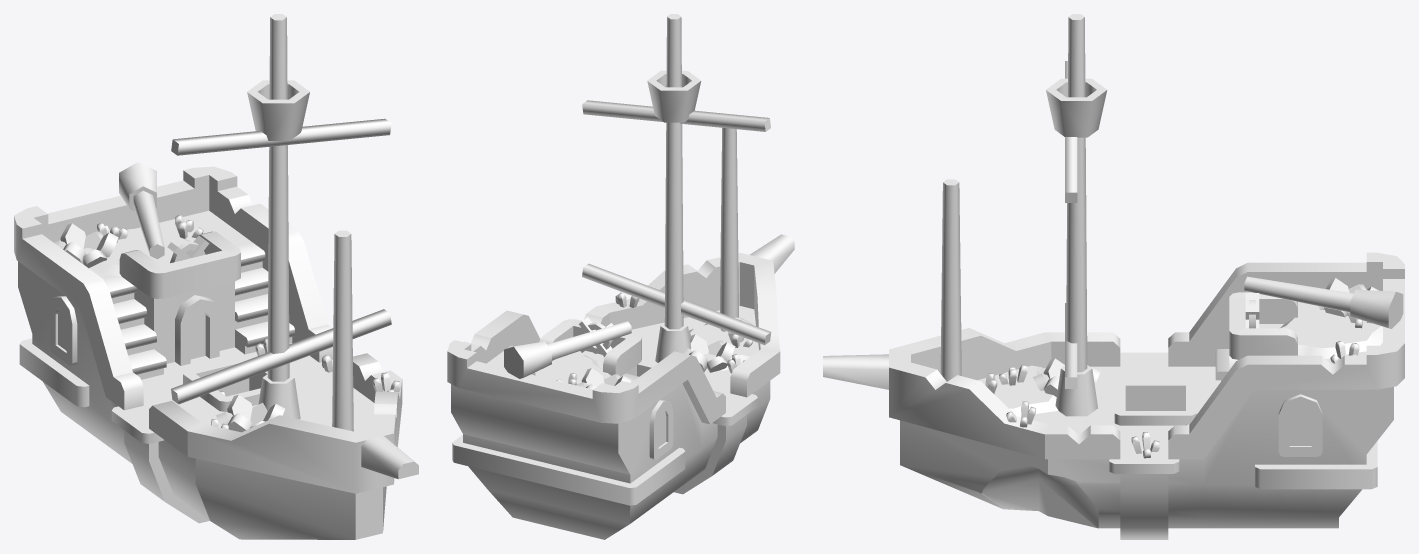
The model's file is ship-wreck.glb.
The picture shows the model from 3 angles, left to right: view 1: azimuth 30°, elevation 25°; view 2: azimuth 150°, elevation 25°; view 3: azimuth 270°, elevation 25°; orthographic projection. The views are drawn at different scales.
Parts seen in each view (by area): view 1: ship-wreck, sail-a, Group (×4); view 2: ship-wreck, Group (×5), sail-a; view 3: ship-wreck, Group (×4), sail-a.
Boxes of the visible parts, x1,y1,x2,y2 form: ship-wreck: (14,14,418,539); sail-a: (171,118,391,404); Group (×4): (54,162,284,432); ship-wreck: (447,14,794,539); Group (×5): (504,317,758,389); sail-a: (582,100,771,345); ship-wreck: (823,14,1404,539); Group (×4): (977,276,1403,416); sail-a: (1065,61,1077,388).
Bounding box in the file's own units: 4.8 × 9.96 × 10.6.
1 material, 1 textured.
